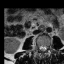CCS_normal: (42, 42, 44, 54)
LFS_normal: (46, 43, 49, 51)
LLS_normal: (44, 42, 46, 53)
RFS_normal: (37, 42, 39, 50)
RLS_normal: (39, 42, 42, 53)
